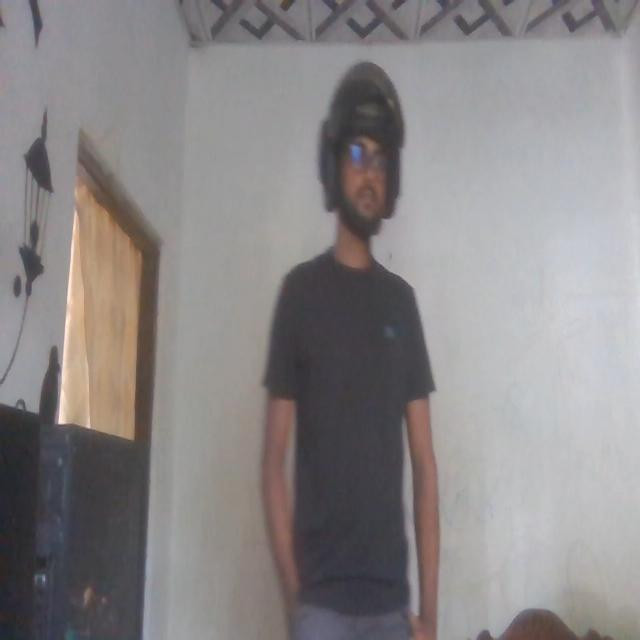Helmet_Wearer: (311, 50, 405, 281)
Person: (257, 50, 445, 640)
